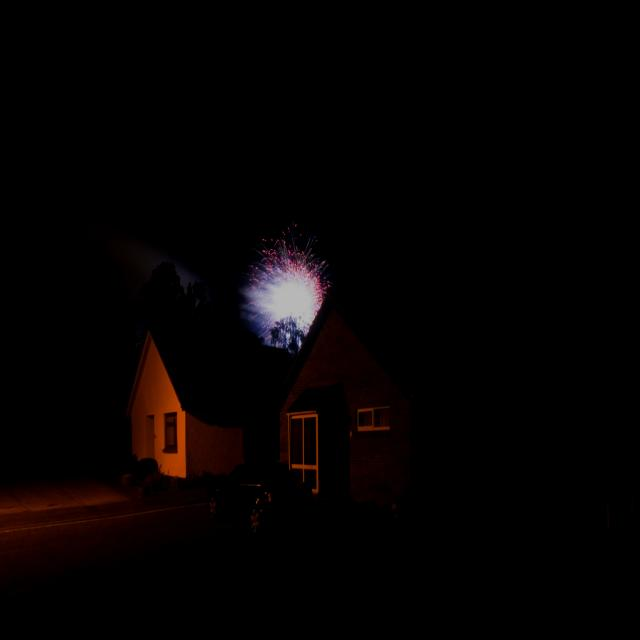Car: (204, 458, 313, 546)
